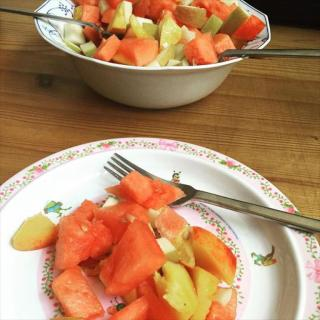Salad: (4, 160, 262, 320), (52, 1, 268, 78)
Watermelon: (49, 172, 233, 320), (74, 0, 267, 65)
